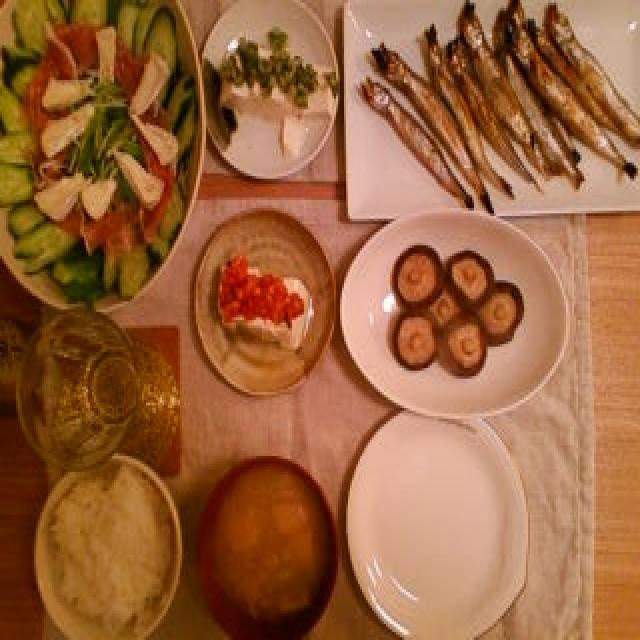Rice: (52, 472, 172, 628)
